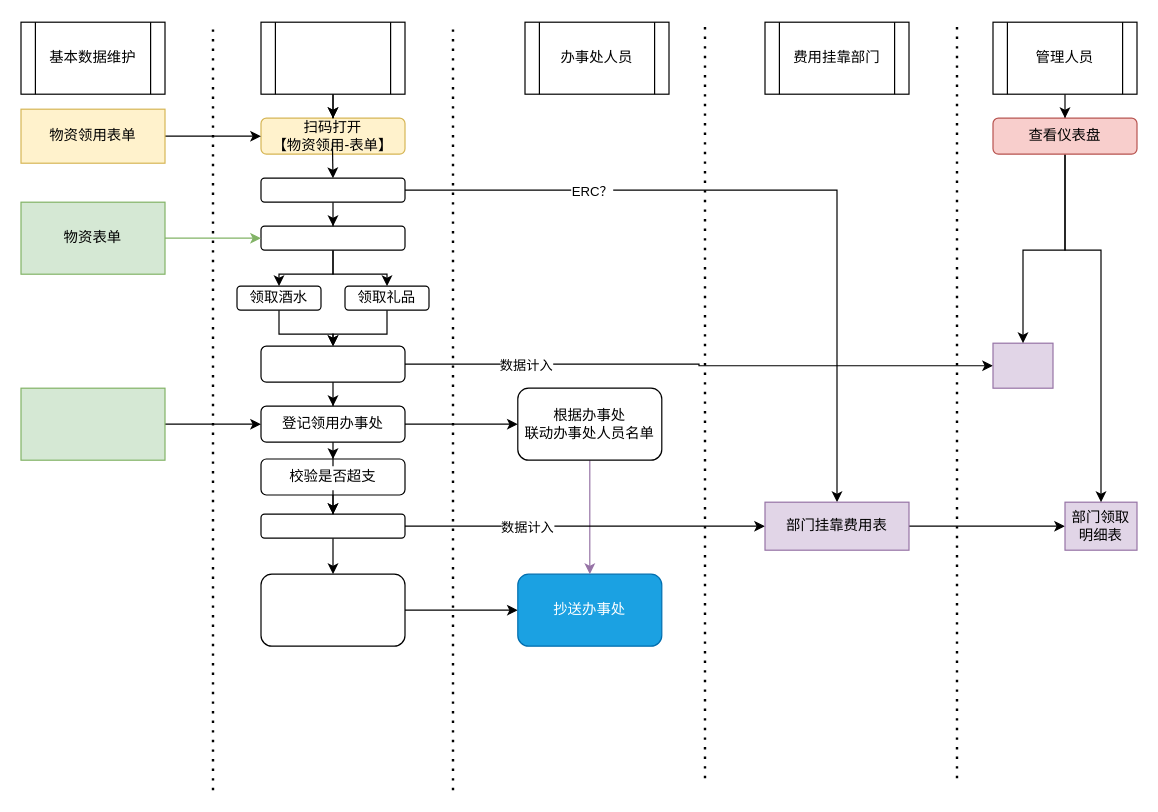
This 1158x812 diagram has some shape labels left out. The shapes that lost their labels are listed below. From the top down, each one's box as (x1, y1, x2, y2) in pixels, then its label:
(260, 21, 405, 94): 申请用户
(260, 177, 405, 202): 选择费用挂靠部门
(260, 225, 405, 250): 领取物资
(260, 345, 405, 382): 统计本次领取费用
(992, 342, 1053, 388): 用户领取金额记录
(20, 387, 165, 460): 办事处人员名单
(260, 513, 405, 538): 未超支
(260, 573, 405, 646): 提交
